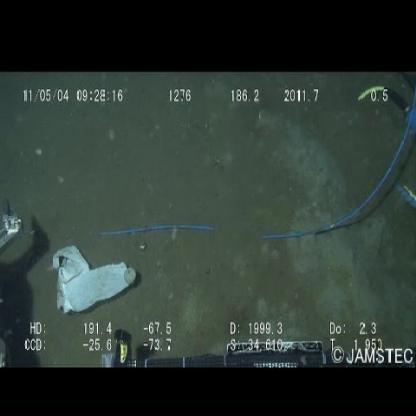Rác: (47, 241, 143, 319)
